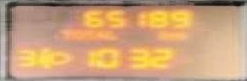0: (94, 47, 118, 67)
1: (82, 48, 96, 67), (136, 11, 145, 26)
2: (147, 46, 171, 67)
3: (125, 47, 147, 67), (14, 47, 36, 66)
5: (103, 8, 125, 27)
6: (81, 10, 103, 26)
8: (145, 9, 167, 27)
9: (167, 9, 189, 27)
X: (102, 30, 116, 41), (80, 28, 94, 39), (69, 28, 80, 39), (60, 28, 69, 39), (94, 30, 103, 40)
